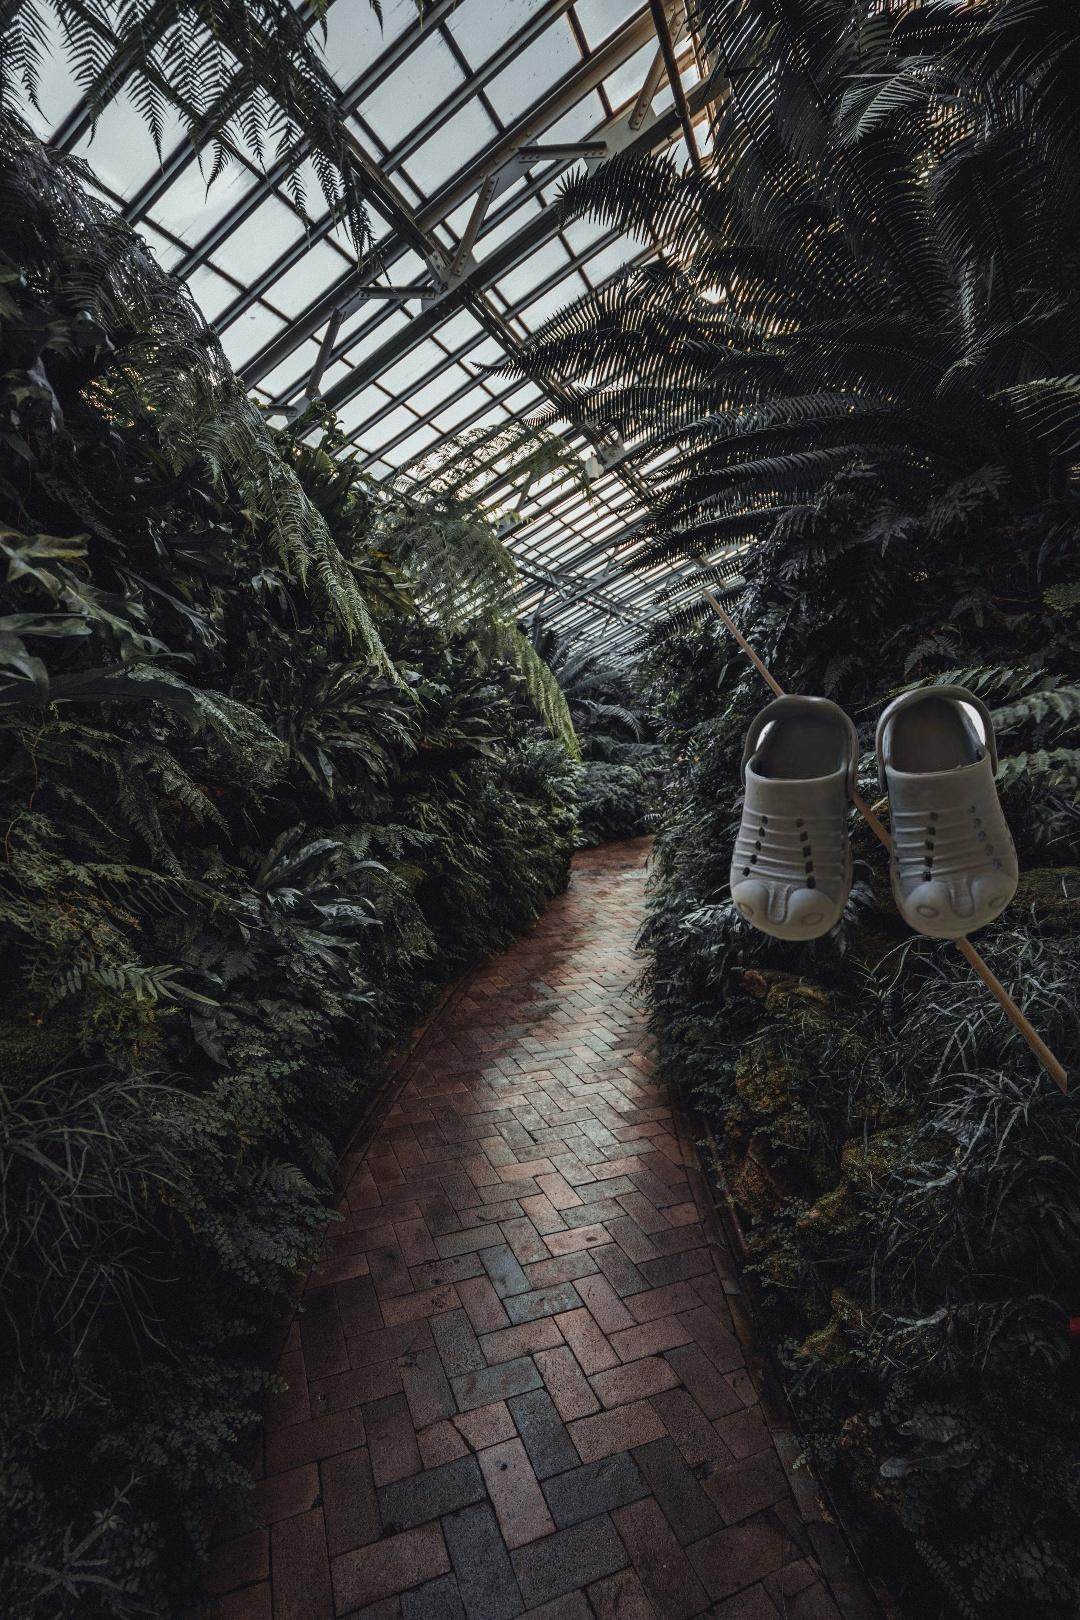shoes: (695, 589, 1067, 1100)
